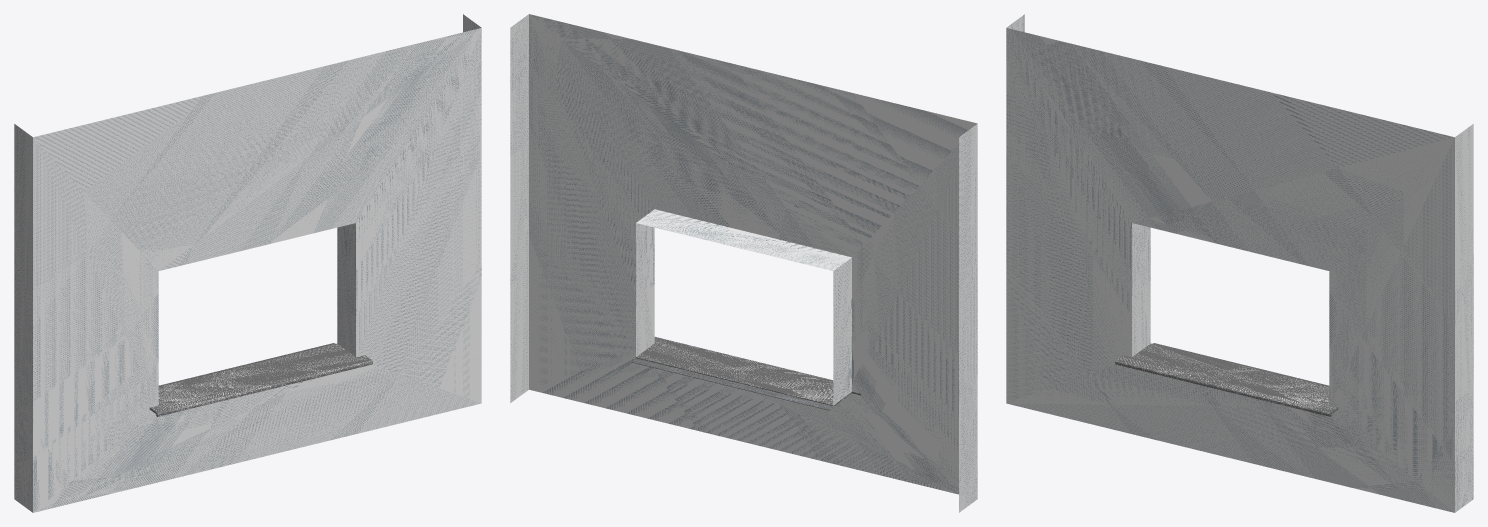
File: WindowBlock_os_[500x400]_220x143x[080].dae
3 renders of one model, left to right at view 1: azimuth 30°, elevation 25°; view 2: azimuth 150°, elevation 25°; view 3: azimuth 330°, elevation 25°, orthographic.
Visible parts, largest first — view 1: group_1 (×2), group_2; view 2: group_1 (×2), group_2 (×2); view 3: group_1 (×2), group_2.
Part boxes in pixels (box(x1,y1,x2,y2)): group_1 (×2): box(14, 14, 481, 512); group_2: box(149, 343, 372, 416); group_1 (×2): box(510, 14, 977, 512); group_2 (×2): box(632, 337, 860, 410); group_1 (×2): box(1006, 14, 1473, 512); group_2: box(1115, 343, 1337, 416).
Size of the model in its own units: 197 by 23.03 by 157.
